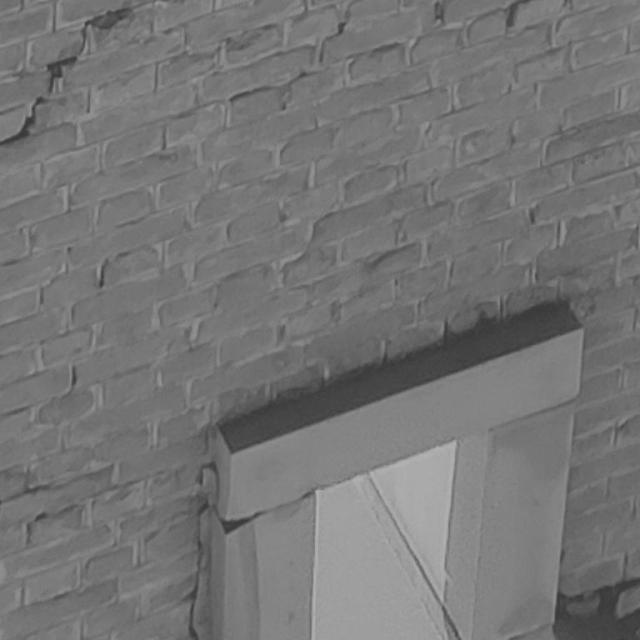crack: (1, 7, 129, 145), (182, 461, 219, 640), (551, 576, 639, 640)
